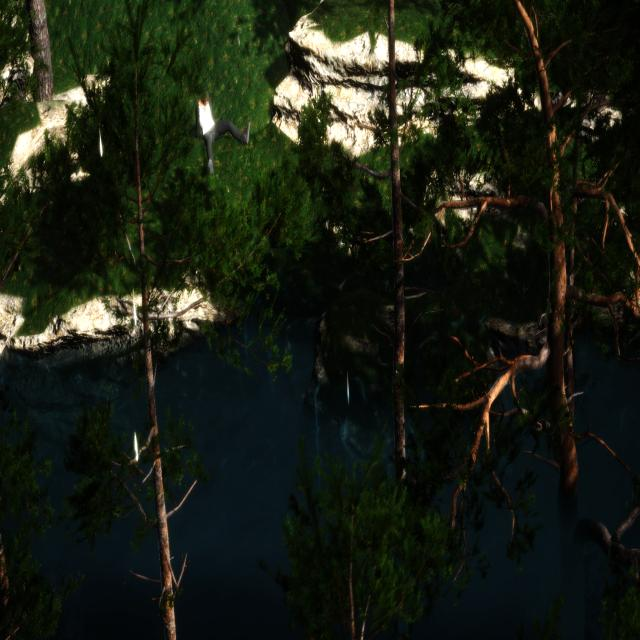Human: (189, 89, 252, 178)
